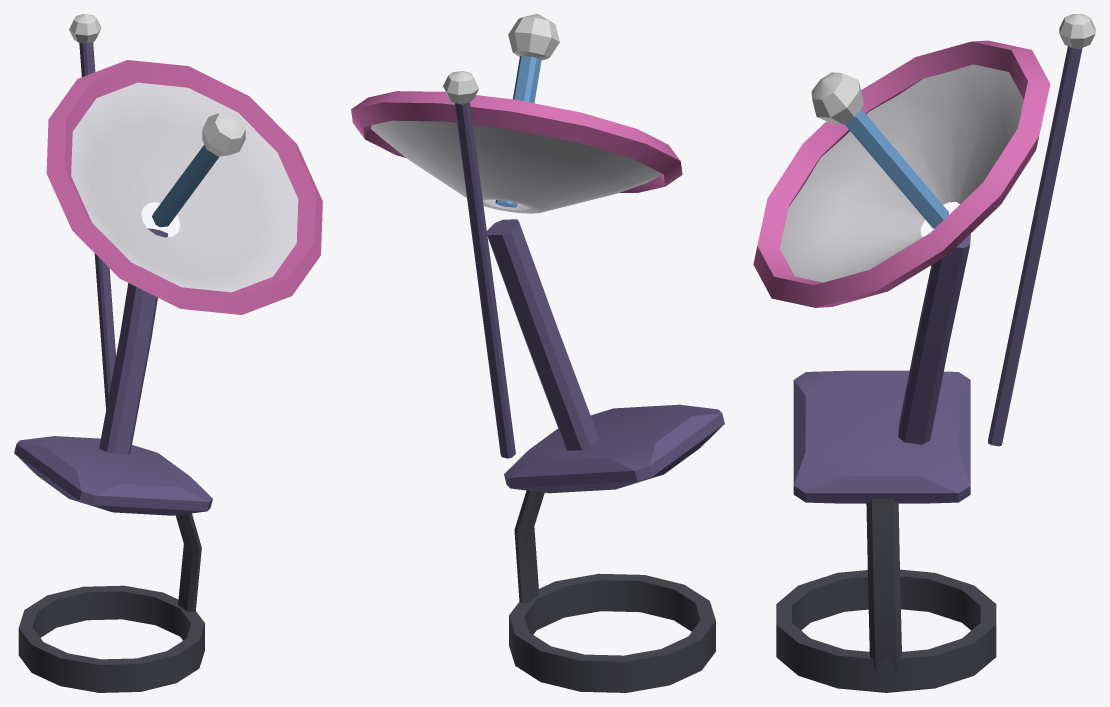
Rendered from gear_antenne.glb.
The picture shows the model from 3 angles, left to right: view 1: azimuth 30°, elevation 25°; view 2: azimuth 150°, elevation 25°; view 3: azimuth 270°, elevation 25°; orthographic projection. The views are drawn at different scales.
Visible parts, largest first — view 1: arm_l__antenne, arm_l__antenne_selle, arm_l__antenne_glow; view 2: arm_l__antenne, arm_l__antenne_selle, arm_l__antenne_glow; view 3: arm_l__antenne, arm_l__antenne_selle, arm_l__antenne_glow.
Boxes of the visible parts, <box> form: arm_l__antenne: <box>46,42,322,454</box>; arm_l__antenne_selle: <box>14,436,212,692</box>; arm_l__antenne_glow: <box>69,14,245,156</box>; arm_l__antenne: <box>351,56,682,458</box>; arm_l__antenne_selle: <box>504,404,724,692</box>; arm_l__antenne_glow: <box>443,14,559,103</box>; arm_l__antenne: <box>753,40,1082,446</box>; arm_l__antenne_selle: <box>776,370,996,692</box>; arm_l__antenne_glow: <box>811,14,1095,124</box>.
Size of the model in its own units: 0.1952 by 0.364 by 0.17.
